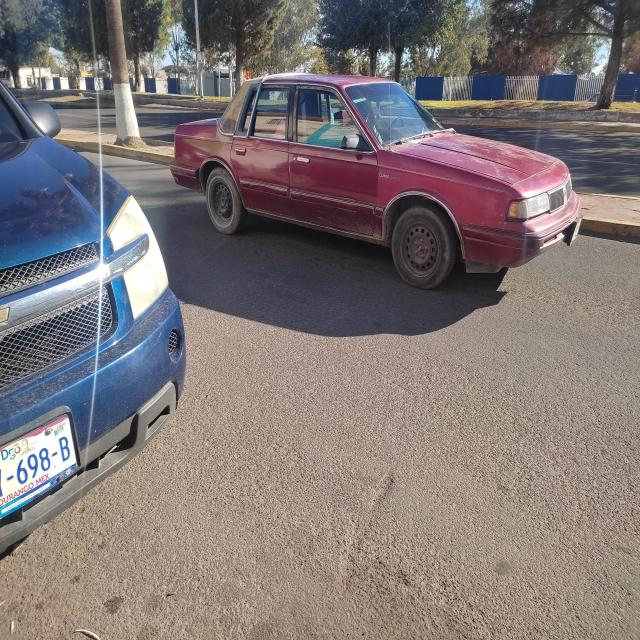Auto: (168, 51, 588, 306), (0, 41, 198, 568)
